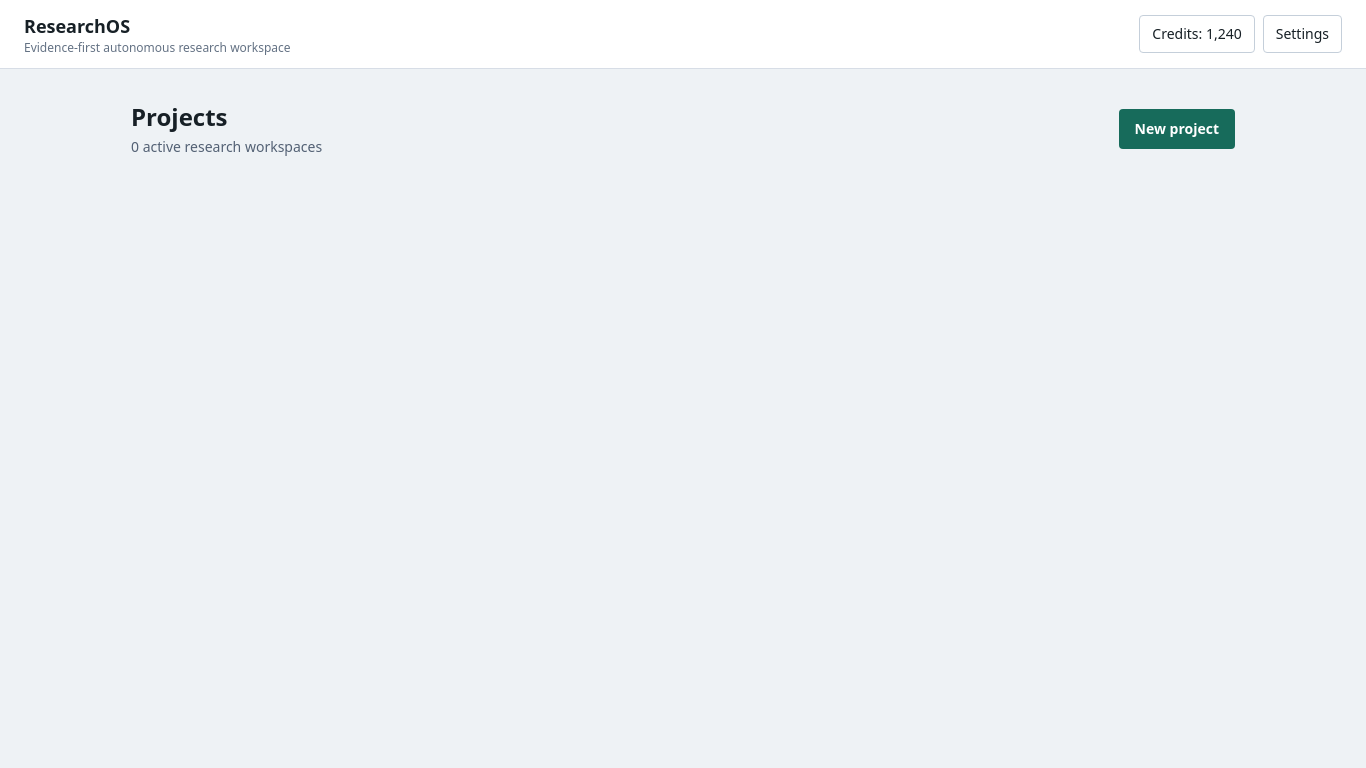
keeps a newly created project when the initial list request finishes later
Click the button "New project" at (1177, 129), box left=1119, top=109, right=1235, bottom=149
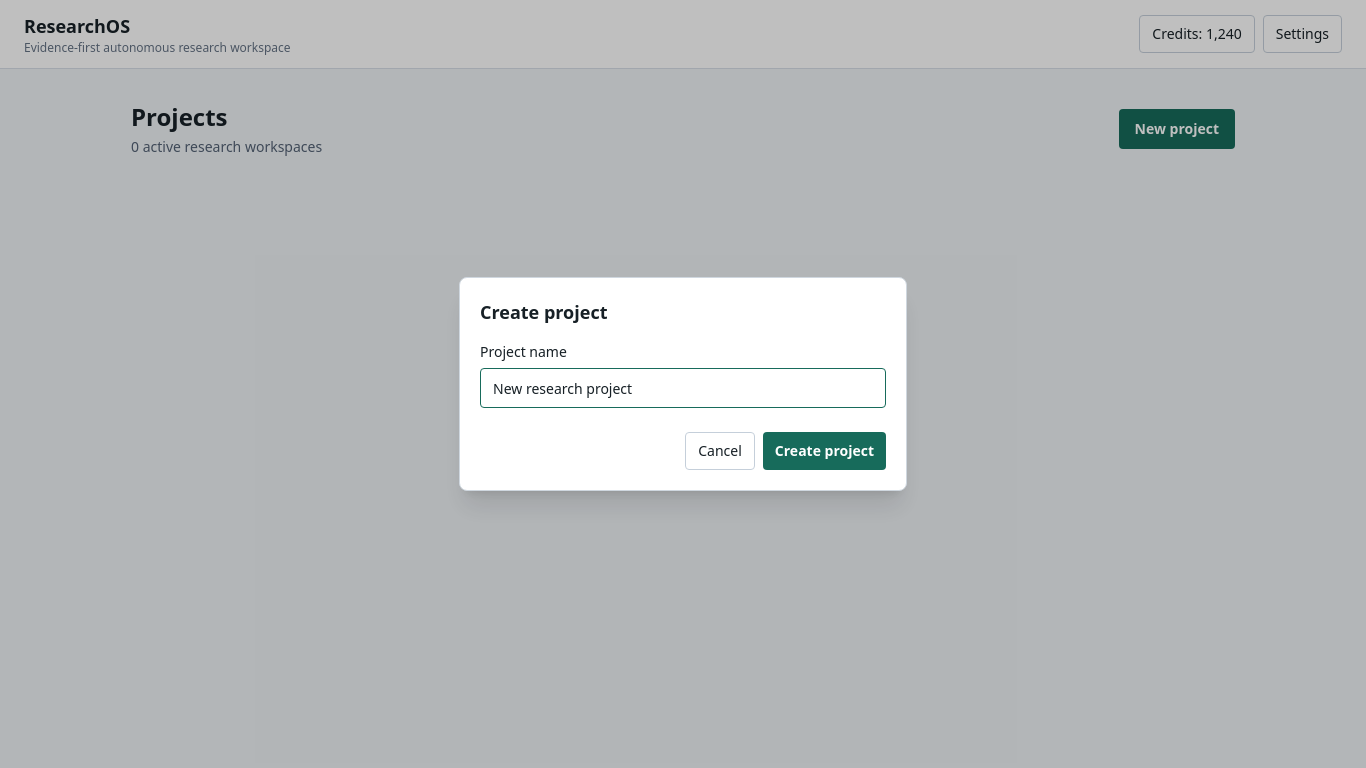
Replace the text in the field named "New project name" with "Evidence-Grounded AI Agents" at (683, 388), box left=480, top=368, right=886, bottom=408
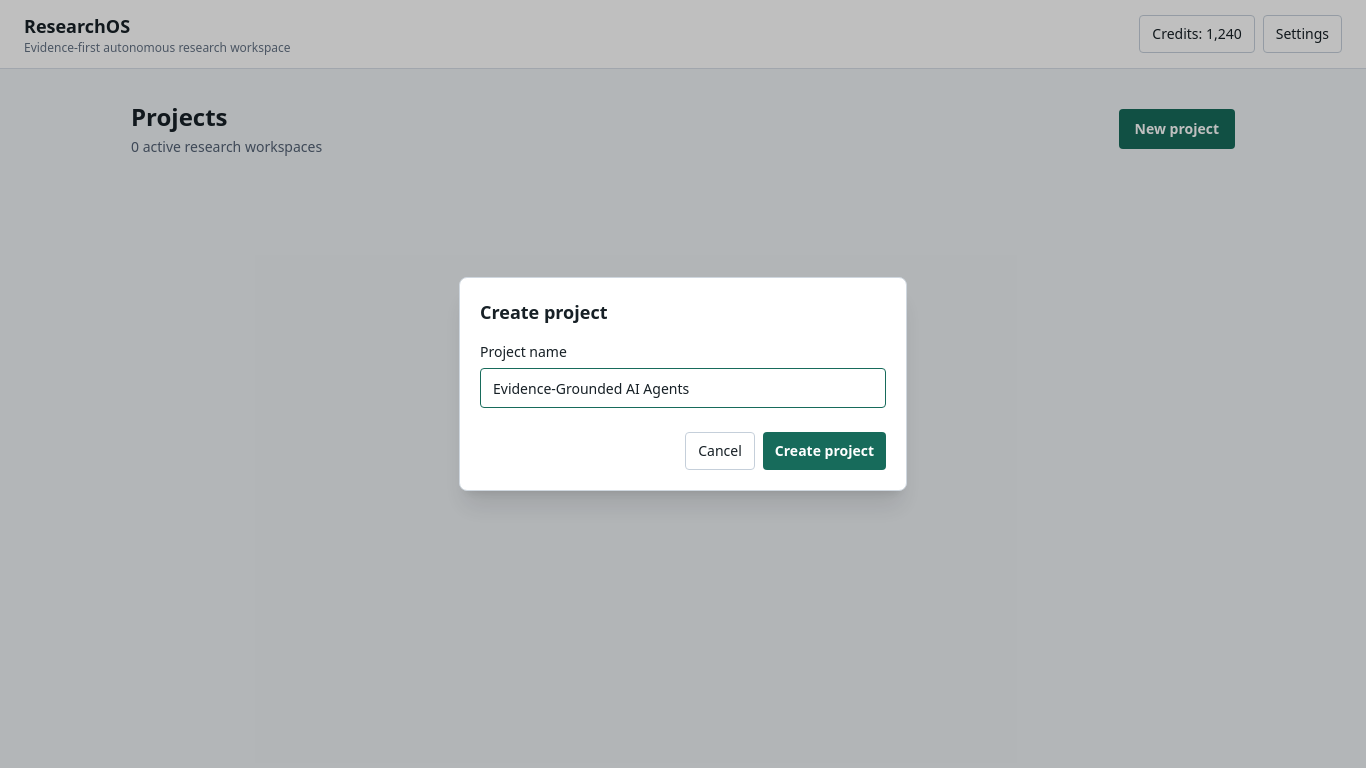
Click the button "Create project" at (824, 451), box left=763, top=432, right=886, bottom=470
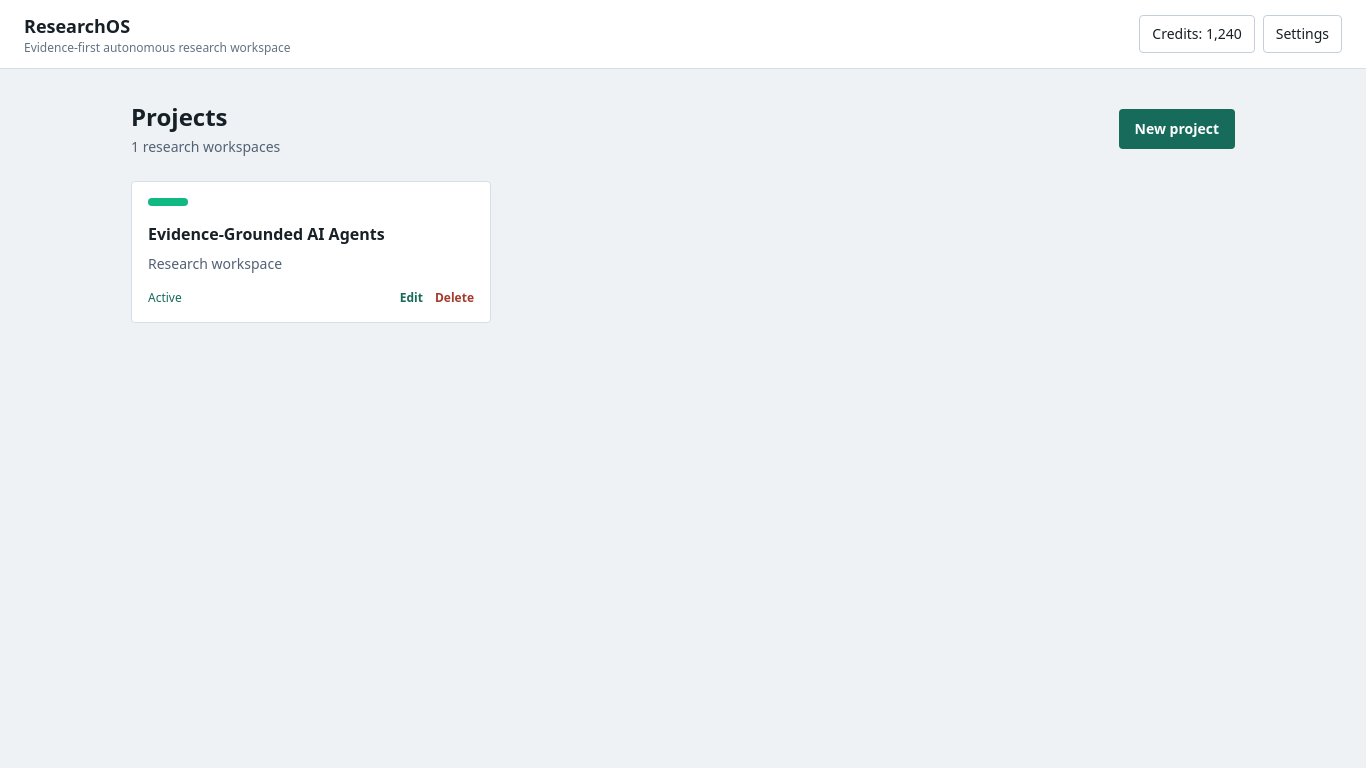
Result: the text "1 research workspaces" is shown at left=131, top=137, right=280, bottom=157
Result: the link "Evidence-Grounded AI Agents" is shown at left=148, top=223, right=385, bottom=245
